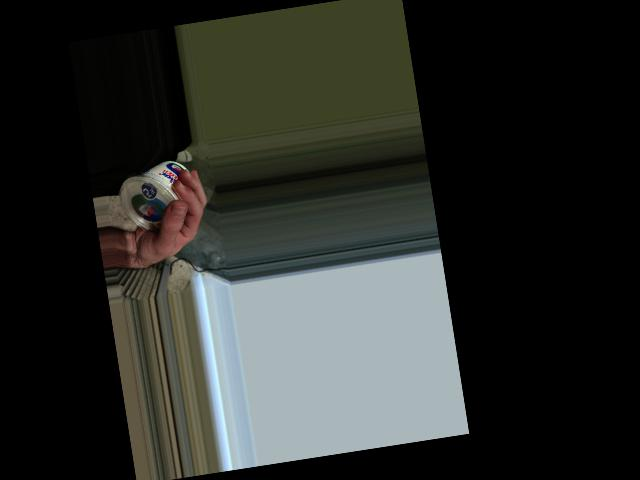cotage: (112, 157, 200, 234)
